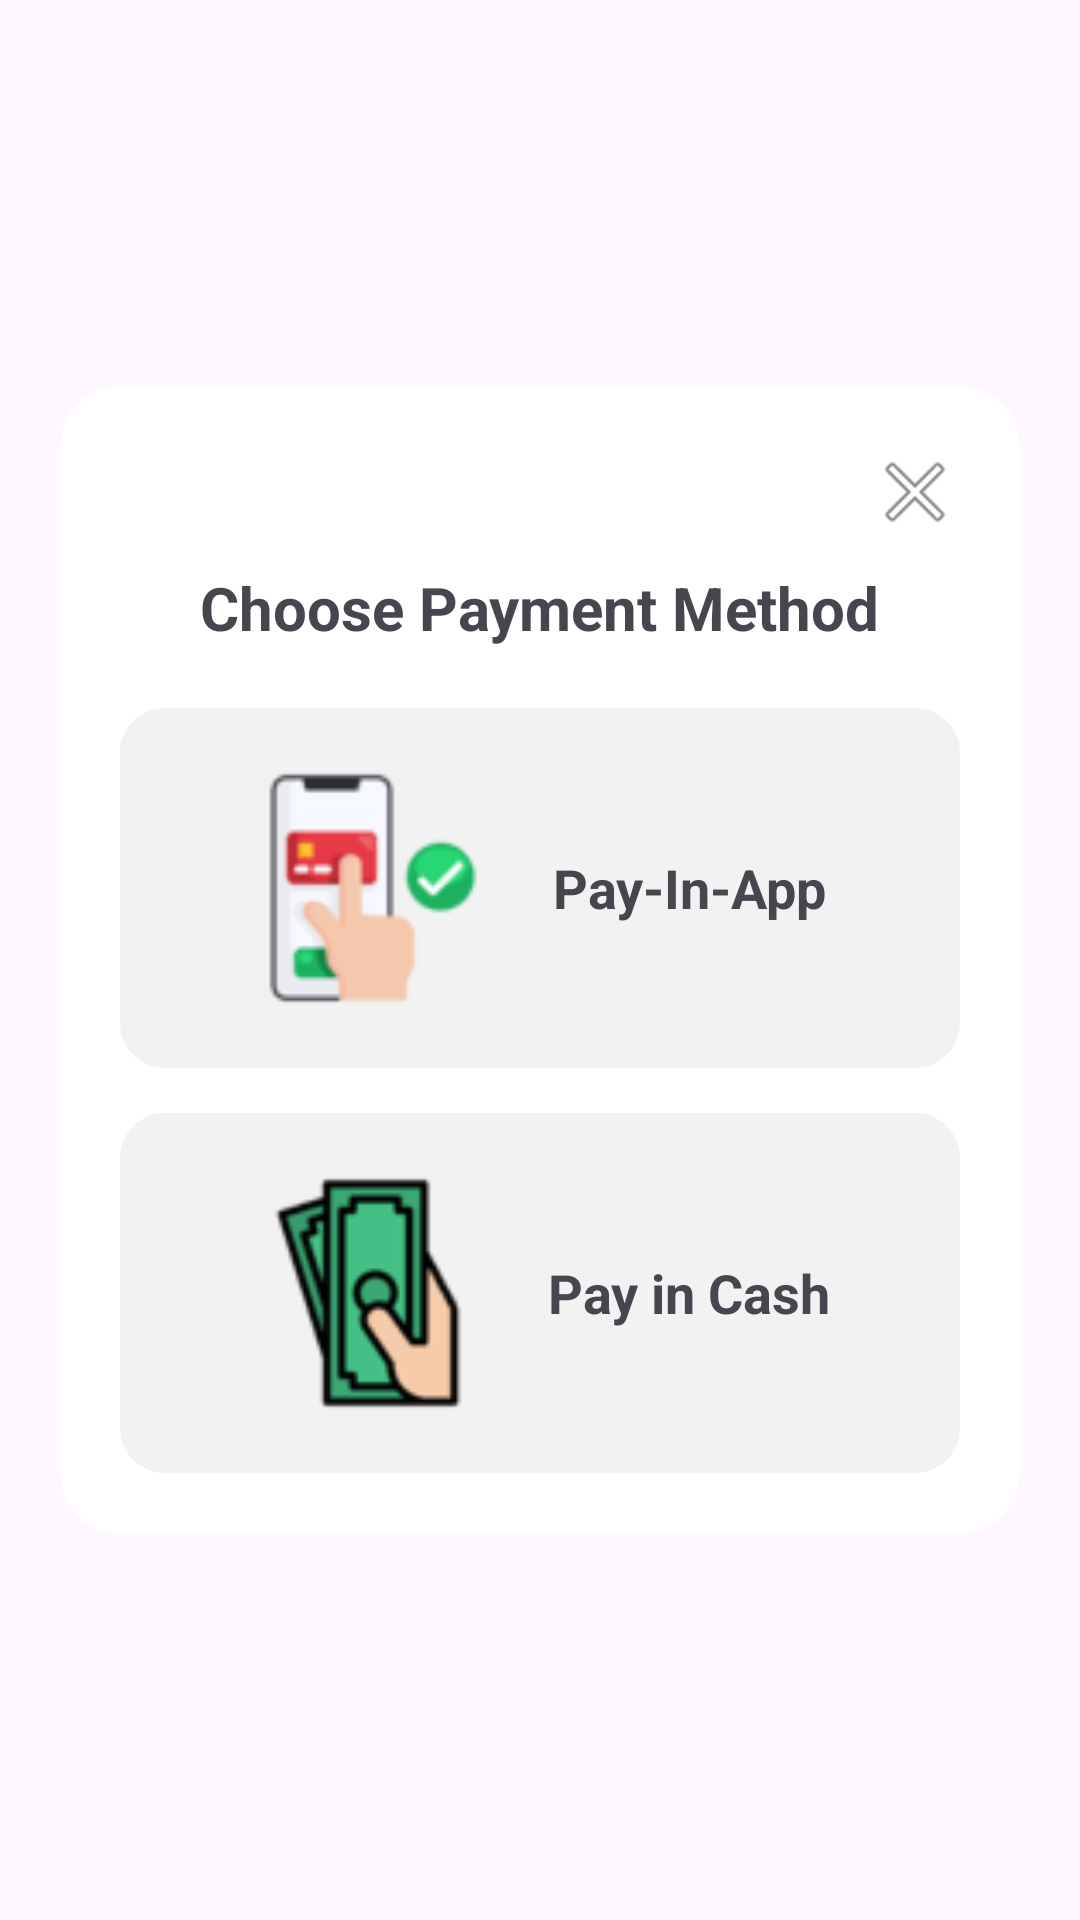

Named icons in this screenshot (1080x1920) and their centers, (x=x, y=y):
Close: (x=915, y=492)
Pay Online: (x=373, y=888)
